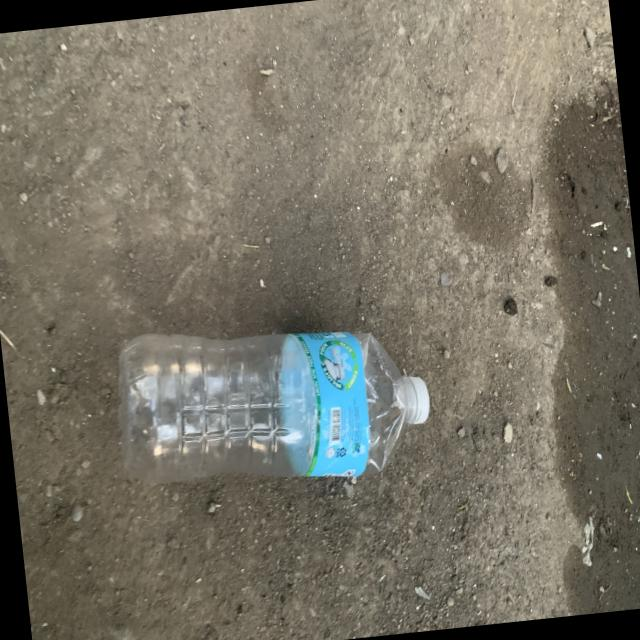Bottle: (118, 330, 429, 482)
